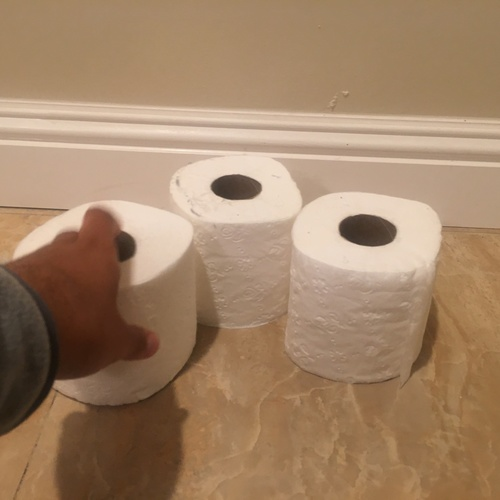roll: (17, 201, 197, 407), (288, 189, 441, 389), (167, 157, 301, 329)
